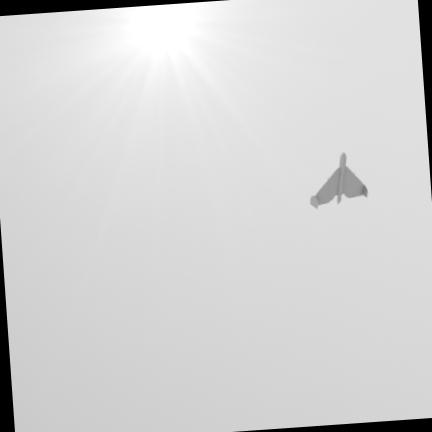Shahed: (310, 152, 366, 206)
